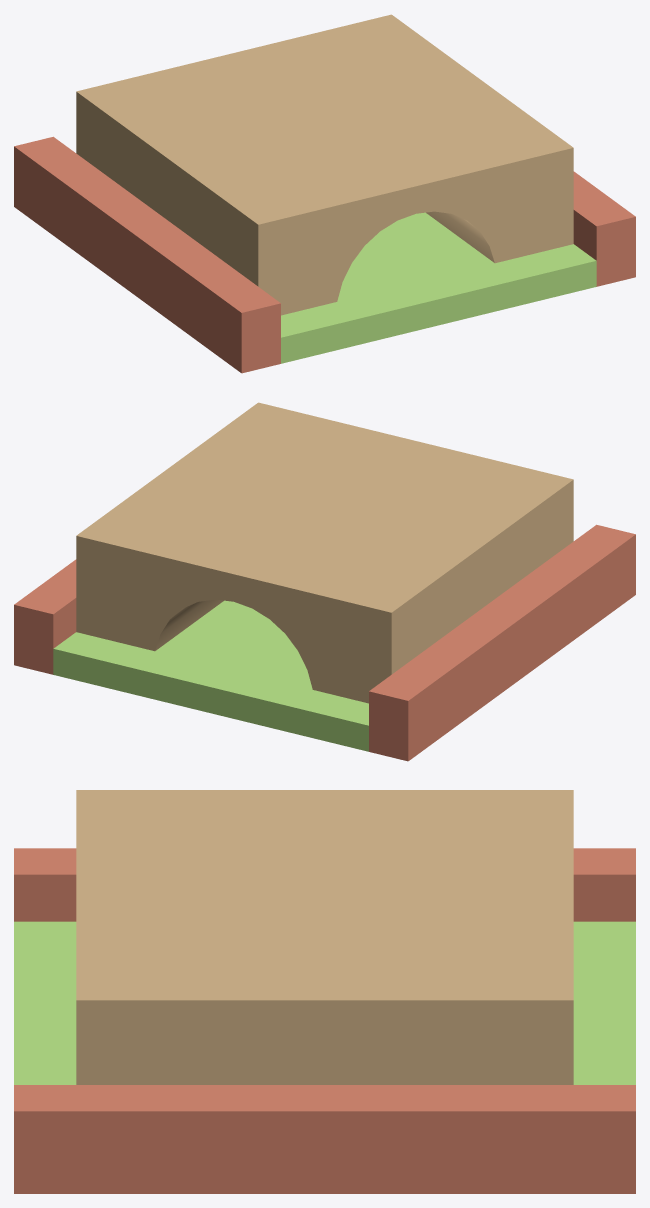
The model's file is Tunnel_wide_01.glb.
3 renders of one model, top to bottom at view 1: azimuth 30°, elevation 25°; view 2: azimuth 150°, elevation 25°; view 3: azimuth 270°, elevation 25°, orthographic. The views are drawn at different scales.
Visible parts, largest first — view 1: Mesh1 Tunnel_wide Model; view 2: Mesh1 Tunnel_wide Model; view 3: Mesh1 Tunnel_wide Model.
Boxes of the visible parts, x1,y1,x2,y2 form: Mesh1 Tunnel_wide Model: (14, 14, 635, 373); Mesh1 Tunnel_wide Model: (14, 402, 635, 761); Mesh1 Tunnel_wide Model: (14, 790, 635, 1193).
Bounding box in the file's own units: 3 × 0.89 × 3.
